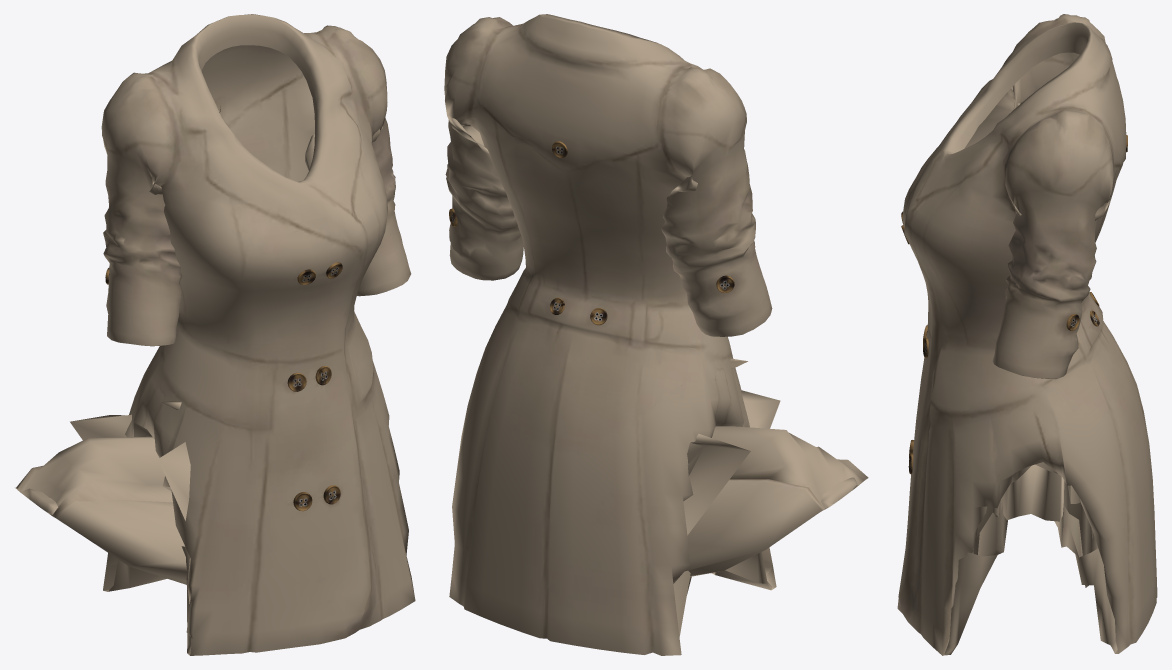
Rendered from tan_womans_coat.glb.
3 views of the same model, side by side, from view 1: azimuth 30°, elevation 25°; view 2: azimuth 150°, elevation 25°; view 3: azimuth 270°, elevation 25° (orthographic). The views are drawn at different scales.
Visible parts, largest first — view 1: defaultMaterial; view 2: defaultMaterial; view 3: defaultMaterial.
Boxes of the visible parts, x1,y1,x2,y2 form: defaultMaterial: (15, 14, 415, 655); defaultMaterial: (444, 14, 868, 655); defaultMaterial: (897, 14, 1157, 655).
Bounding box in the file's own units: 0.6908 × 1 × 0.4153.
Materials: 2 (2 with a texture image).
